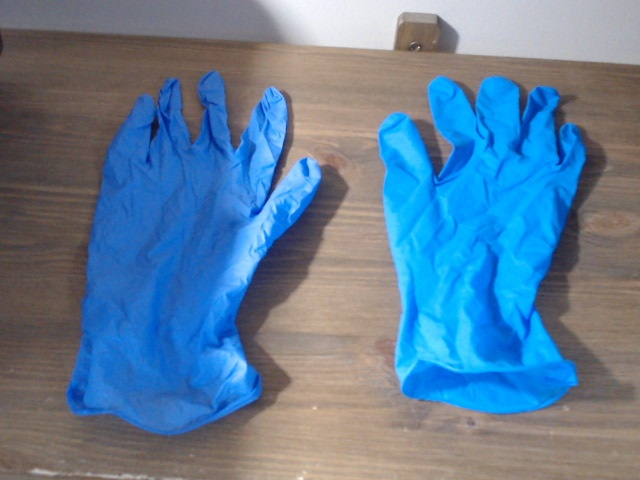medical_glove: (69, 69, 321, 436), (378, 75, 583, 413)
